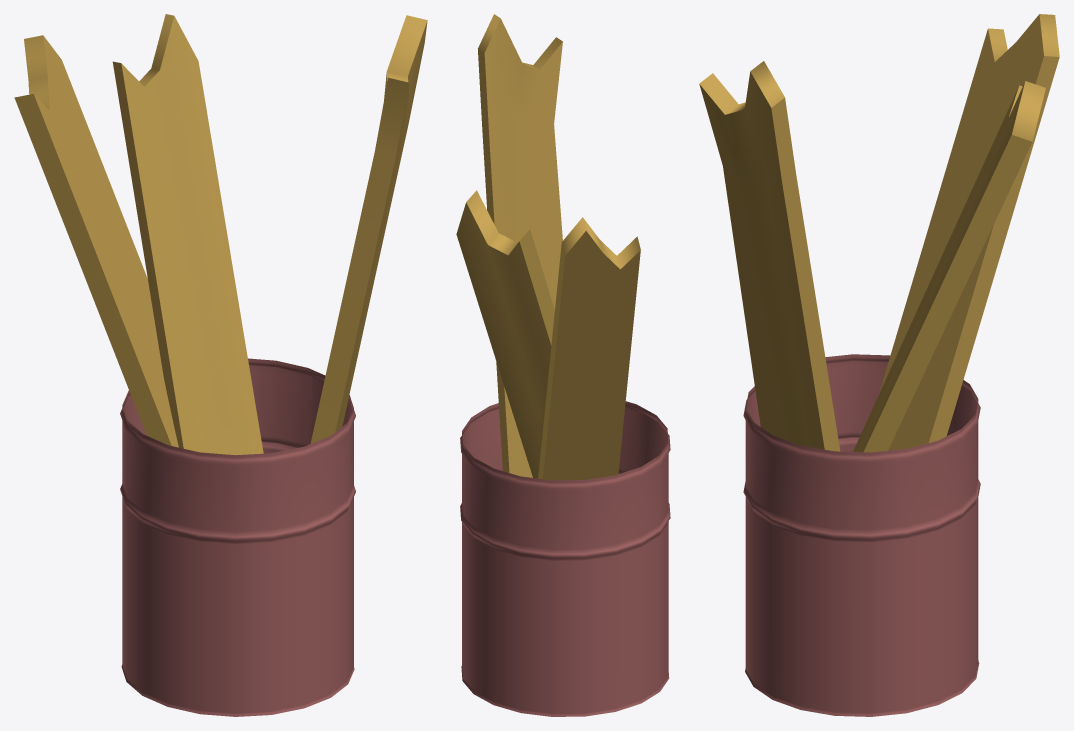
The model's file is barrel.fbx.
3 renders of one model, left to right at view 1: azimuth 30°, elevation 25°; view 2: azimuth 150°, elevation 25°; view 3: azimuth 270°, elevation 25°, orthographic. The views are drawn at different scales.
Visible parts, largest first — view 1: mayaisland234:mayaisland232:_island190:polySurface36, mayaisland234:mayaisland232:_island190:polySurface79, mayaisland234:mayaisland232:_island190:polySurface78, mayaisland234:mayaisland232:_island190:polySurface88; view 2: mayaisland234:mayaisland232:_island190:polySurface36, mayaisland234:mayaisland232:_island190:polySurface78, mayaisland234:mayaisland232:_island190:polySurface88, mayaisland234:mayaisland232:_island190:polySurface79; view 3: mayaisland234:mayaisland232:_island190:polySurface36, mayaisland234:mayaisland232:_island190:polySurface88, mayaisland234:mayaisland232:_island190:polySurface78, mayaisland234:mayaisland232:_island190:polySurface79.
Boxes of the visible parts, left/top/right/bottom form: mayaisland234:mayaisland232:_island190:polySurface36: left=120, top=358, right=355, bottom=716; mayaisland234:mayaisland232:_island190:polySurface79: left=112, top=14, right=263, bottom=455; mayaisland234:mayaisland232:_island190:polySurface78: left=14, top=35, right=178, bottom=447; mayaisland234:mayaisland232:_island190:polySurface88: left=310, top=15, right=427, bottom=443; mayaisland234:mayaisland232:_island190:polySurface36: left=460, top=401, right=670, bottom=716; mayaisland234:mayaisland232:_island190:polySurface78: left=538, top=217, right=640, bottom=480; mayaisland234:mayaisland232:_island190:polySurface88: left=478, top=14, right=562, bottom=477; mayaisland234:mayaisland232:_island190:polySurface79: left=456, top=190, right=554, bottom=478; mayaisland234:mayaisland232:_island190:polySurface36: left=743, top=354, right=980, bottom=716; mayaisland234:mayaisland232:_island190:polySurface88: left=699, top=61, right=840, bottom=451; mayaisland234:mayaisland232:_island190:polySurface78: left=879, top=14, right=1059, bottom=450; mayaisland234:mayaisland232:_island190:polySurface79: left=853, top=81, right=1045, bottom=452.
Bounding box in the file's own units: 10.77 × 22.98 × 11.27.
